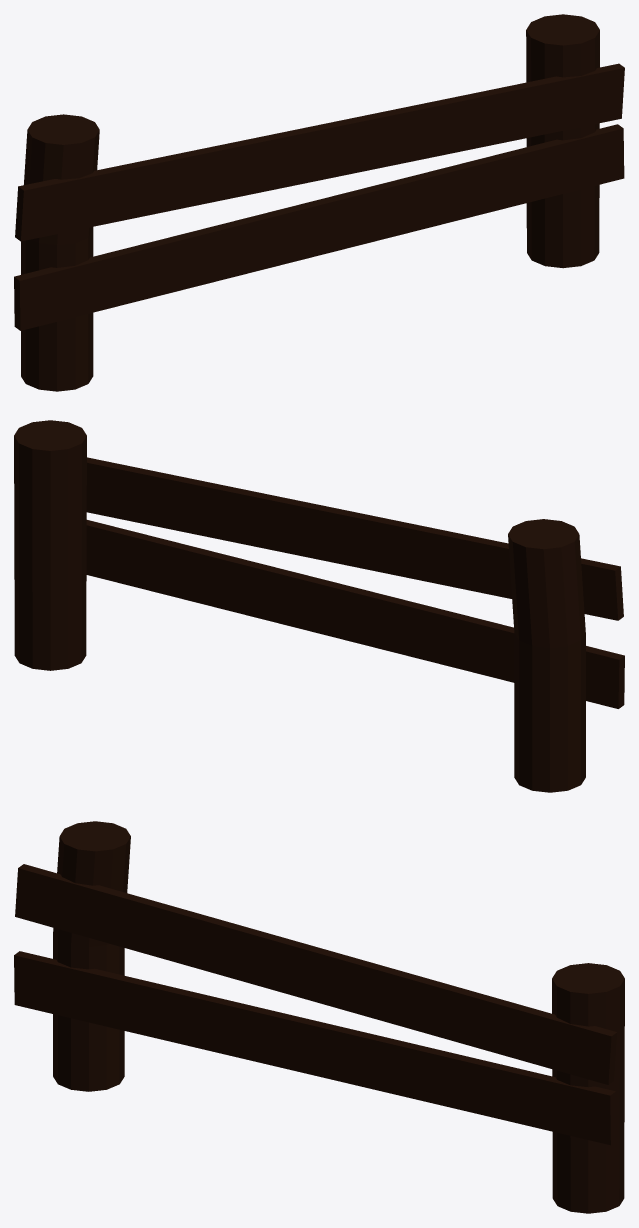
The model's file is Fence Long.FBX.
3 renders of one model, top to bottom at view 1: azimuth 30°, elevation 25°; view 2: azimuth 150°, elevation 25°; view 3: azimuth 330°, elevation 25°, orthographic.
Parts seen in each view (by area): view 1: Box002, Box001, Cylinder001; view 2: Cylinder001, Box002, Box001; view 3: Box002, Box001, Cylinder001.
Boxes of the visible parts, left/top/right/bottom form: Box002: left=14, top=124, right=624, bottom=330; Box001: left=15, top=63, right=624, bottom=241; Cylinder001: left=21, top=14, right=599, bottom=391; Cylinder001: left=14, top=420, right=585, bottom=792; Box002: left=86, top=520, right=624, bottom=708; Box001: left=86, top=457, right=623, bottom=620; Box002: left=14, top=951, right=616, bottom=1145; Box001: left=15, top=864, right=617, bottom=1084; Cylinder001: left=53, top=821, right=624, bottom=1213.
Size of the model in its own units: 51.81 by 20.05 by 5.6.
